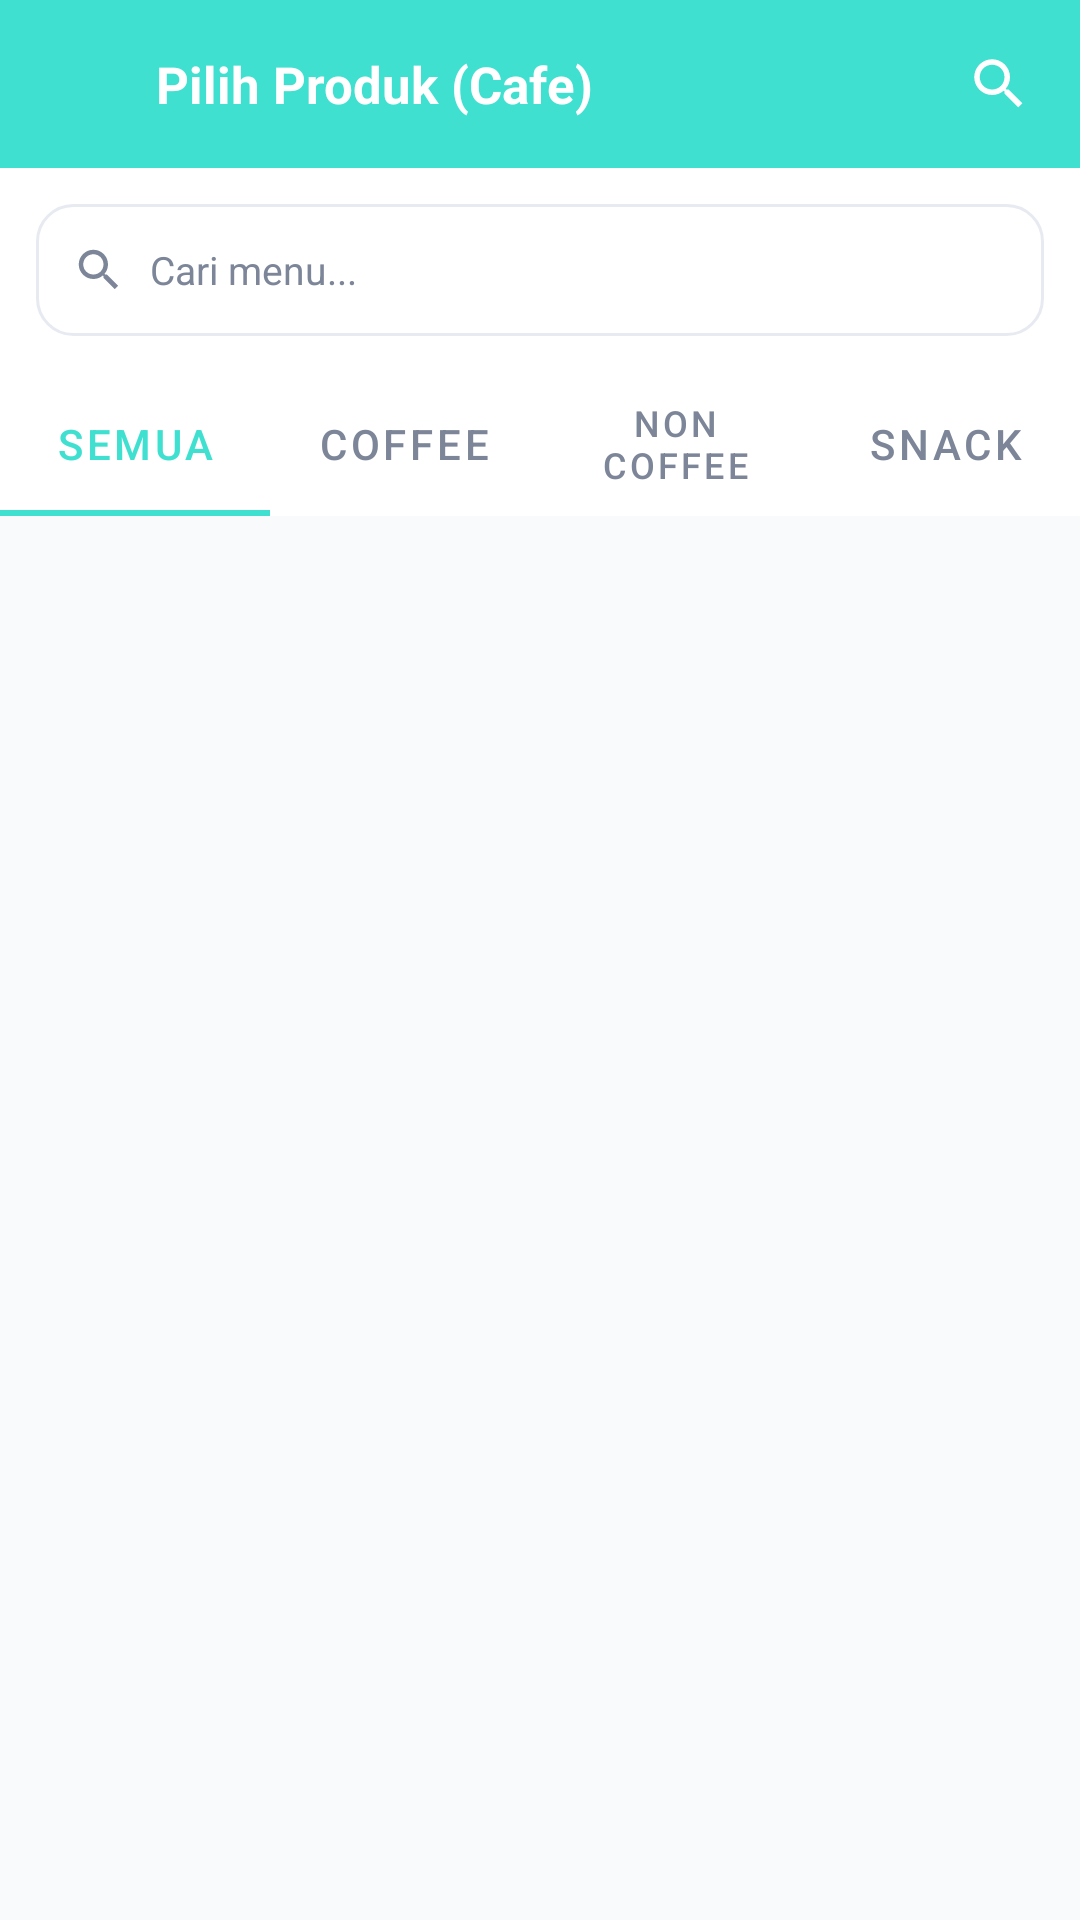

Icon bounding boxes for this 1080px×1920px phone screenshot, format (x1, y1, x2, y2):
Search: (974, 59, 1022, 107), (78, 249, 118, 289)
